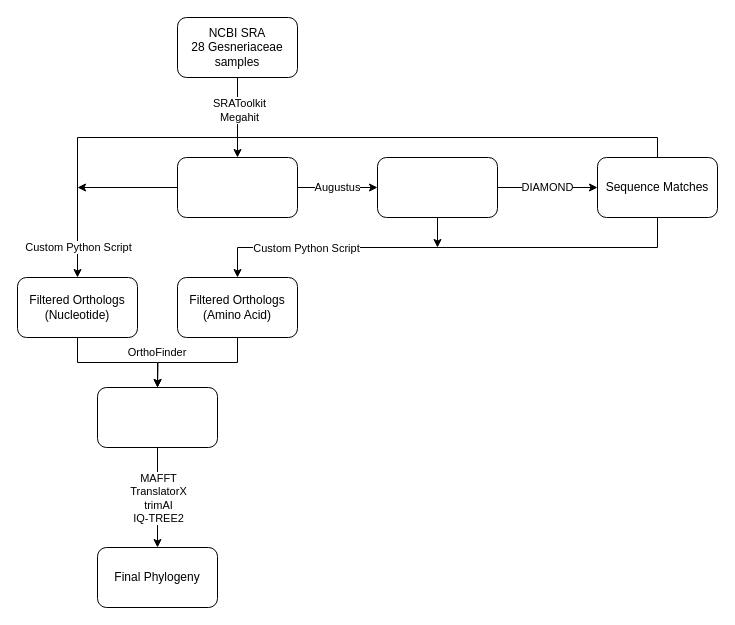
Image size: 735x625. Some labels were removed from this diagram. The centre of each missing label's shape, as x and y in pixels:
"Assemblies" belongs at [237,187].
"Orthology Inference Results" belongs at [157,417].
"Proteomes" belongs at [437,187].
